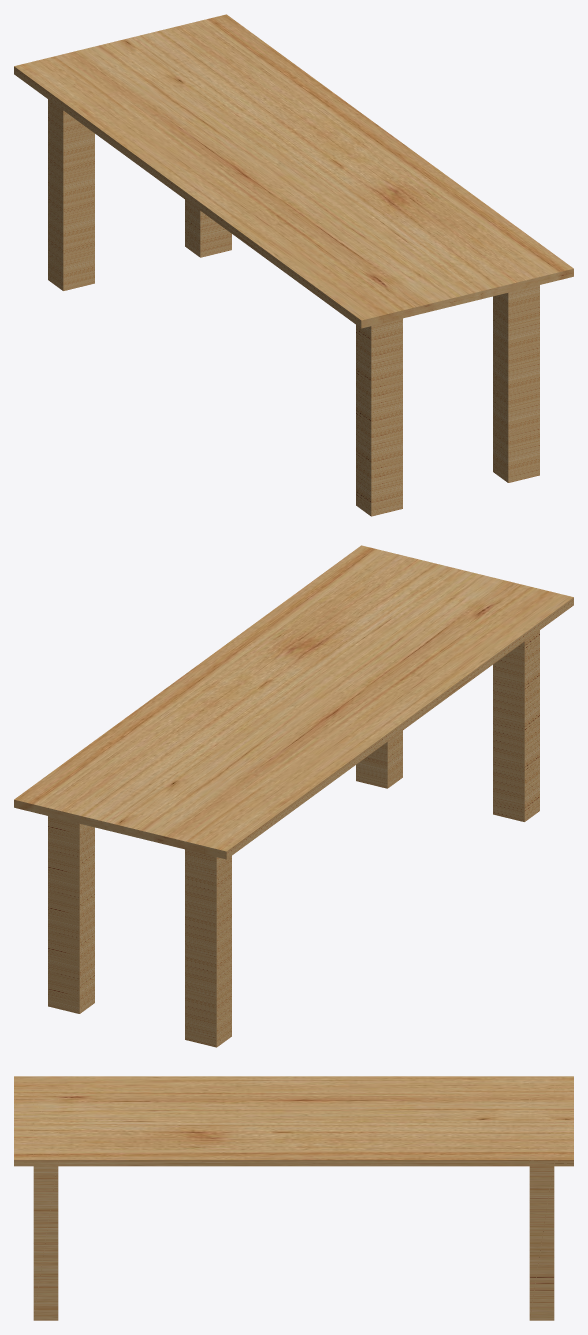
File: Desk.fbx
3 renders of one model, top to bottom at view 1: azimuth 30°, elevation 25°; view 2: azimuth 150°, elevation 25°; view 3: azimuth 270°, elevation 25°, orthographic. The views are drawn at different scales.
Visible parts, largest first — view 1: pCube1; view 2: pCube1; view 3: pCube1.
Boxes of the visible parts, x1,y1,x2,y2 form: pCube1: [14, 14, 573, 516]; pCube1: [14, 545, 573, 1047]; pCube1: [14, 1076, 573, 1320].
Bounding box in the file's own units: 3.26 × 3.08 × 9.21.
1 material, 1 textured.
